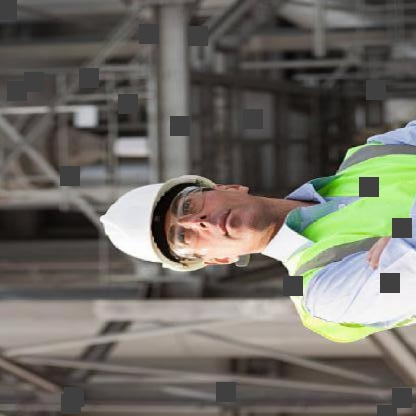vest: (286, 133, 408, 345)
white: (97, 172, 207, 282)
